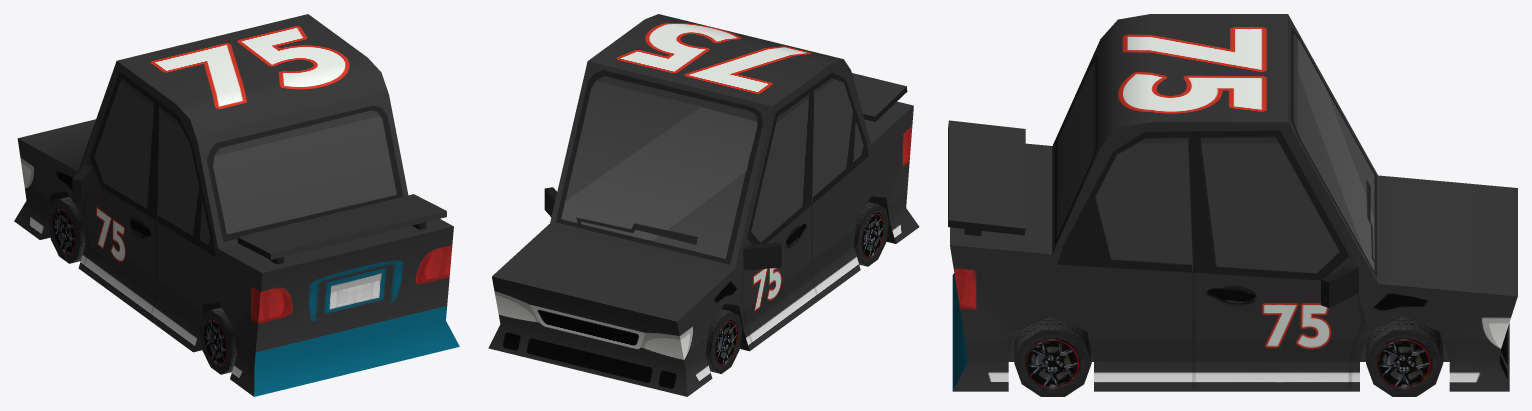
Rendered from sportsCar_black_collada_14.dae.
The picture shows the model from 3 angles, left to right: view 1: azimuth 30°, elevation 25°; view 2: azimuth 150°, elevation 25°; view 3: azimuth 270°, elevation 25°; orthographic projection. The views are drawn at different scales.
Parts seen in each view (by area): view 1: sportsCar_black_body, wheelBL, wheelFL; view 2: sportsCar_black_body, wheelFL, wheelBL; view 3: sportsCar_black_body, wheelFR, wheelBR.
Boxes of the visible parts, x1=… form: sportsCar_black_body: x1=14, y1=14, x2=459, y2=396; wheelBL: x1=199, y1=307, x2=236, y2=374; wheelFL: x1=47, y1=196, x2=85, y2=263; sportsCar_black_body: x1=488, y1=14, x2=919, y2=396; wheelFL: x1=705, y1=309, x2=742, y2=373; wheelBL: x1=854, y1=201, x2=888, y2=266; sportsCar_black_body: x1=948, y1=14, x2=1517, y2=391; wheelFR: x1=1366, y1=316, x2=1443, y2=396; wheelBR: x1=1014, y1=316, x2=1091, y2=396.
Size of the model in its own units: 242 by 222 by 420.
Materials: 1 (1 with a texture image).
